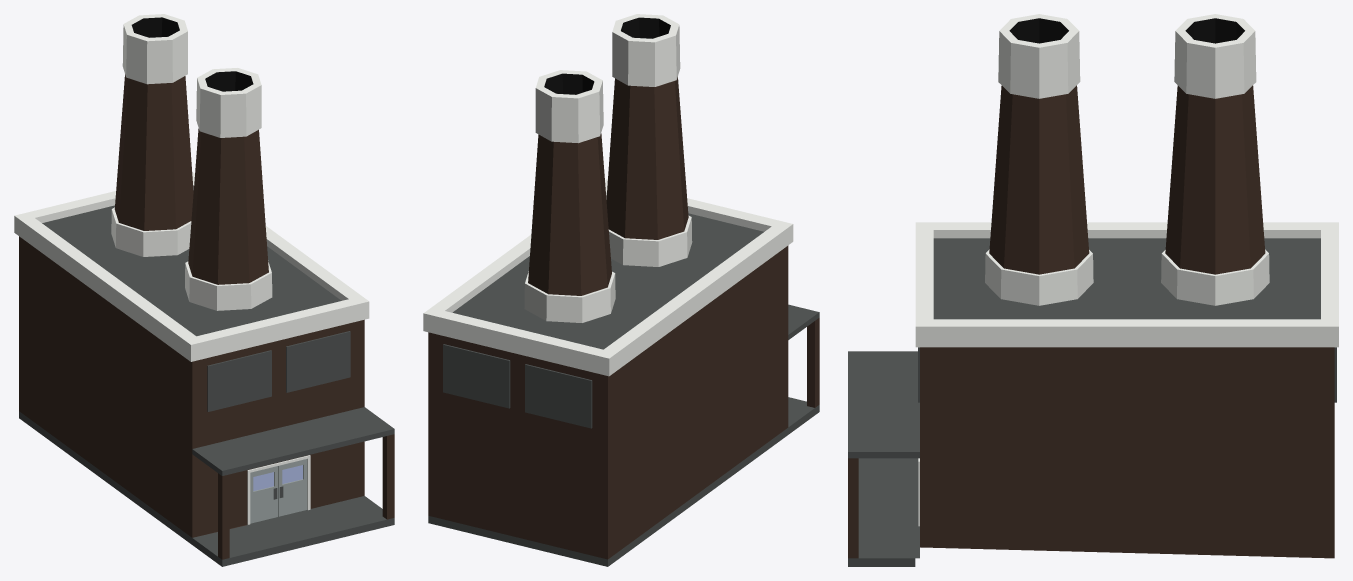
File: Factory.fbx
The picture shows the model from 3 angles, left to right: view 1: azimuth 30°, elevation 25°; view 2: azimuth 150°, elevation 25°; view 3: azimuth 270°, elevation 25°; orthographic projection. The views are drawn at different scales.
Parts seen in each view (by area): view 1: Factory; view 2: Factory; view 3: Factory.
Boxes of the visible parts, bbox=[...] form: Factory: bbox=[14, 14, 394, 566]; Factory: bbox=[423, 14, 819, 566]; Factory: bbox=[848, 14, 1338, 566].
Bounding box in the file's own units: 370 × 804 × 735.
